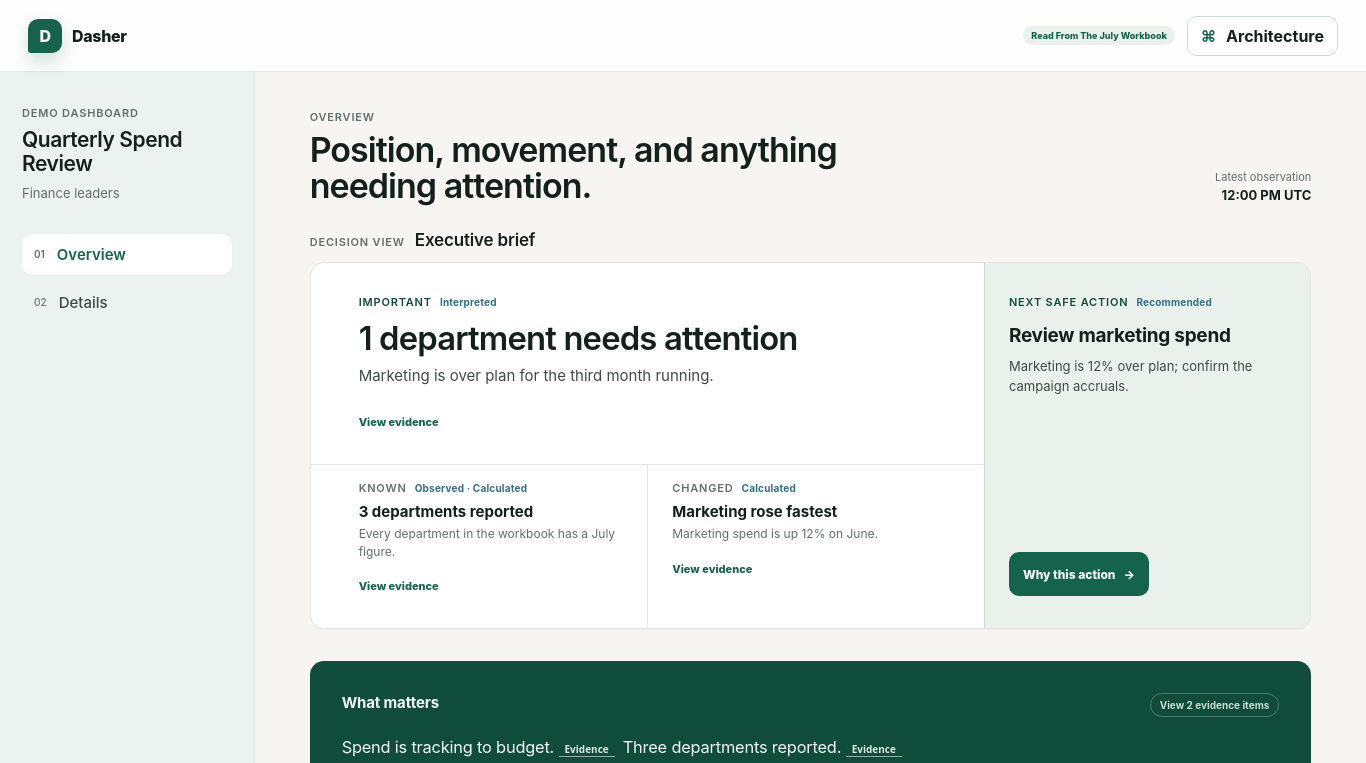
Test case: DashboardShell › shows one action on the first page and restores the sidebar action elsewhere
Expected: the element "Executive brief" is shown, [310,230,1311,629]
Expected: the number of headings "Review marketing spend" is 1, [1009,325,1231,348]
Click the button named "02Details" at (127,302), box [22,282,232,323]
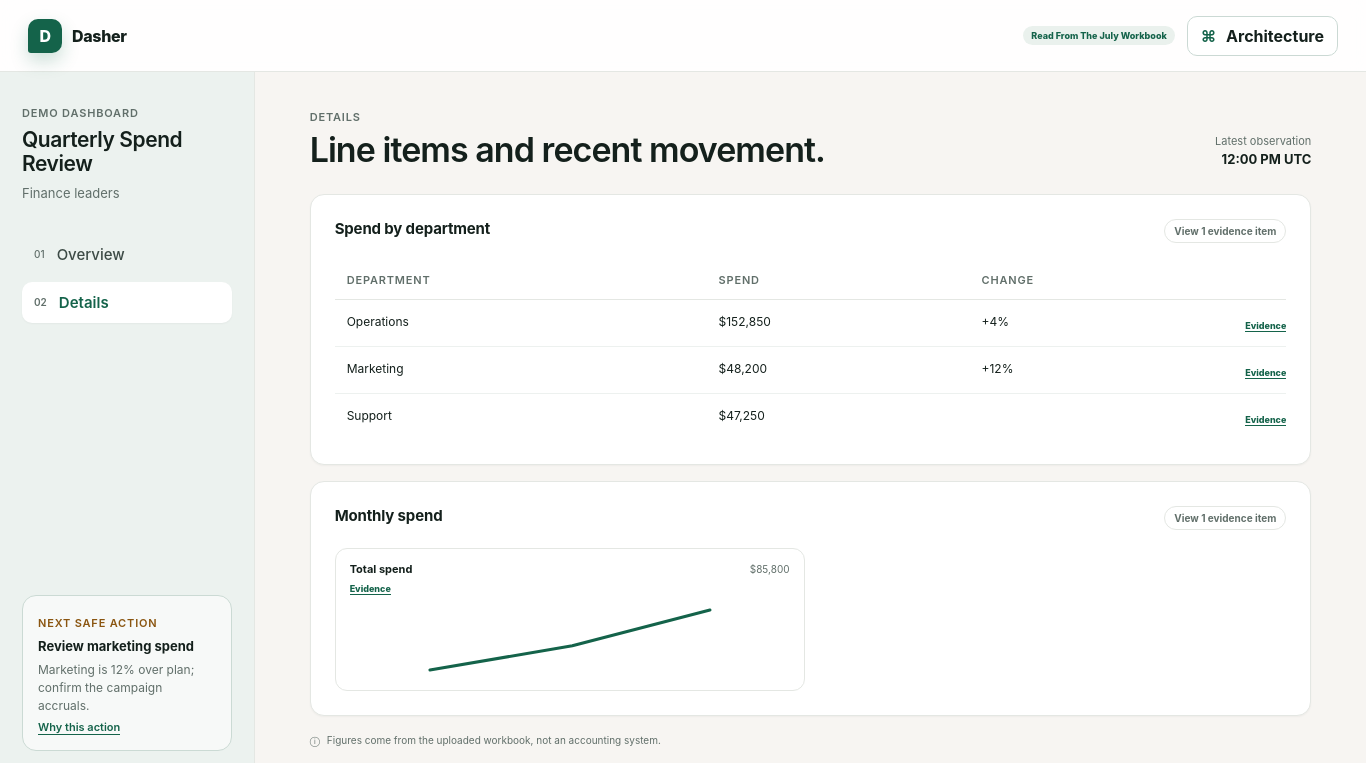
Expected: the heading "Executive brief" is gone
Expected: the element with class "sidebar-next" is shown, [22,595,232,751]
Expected: the text "Review marketing spend" is shown once, [38,638,216,654]
